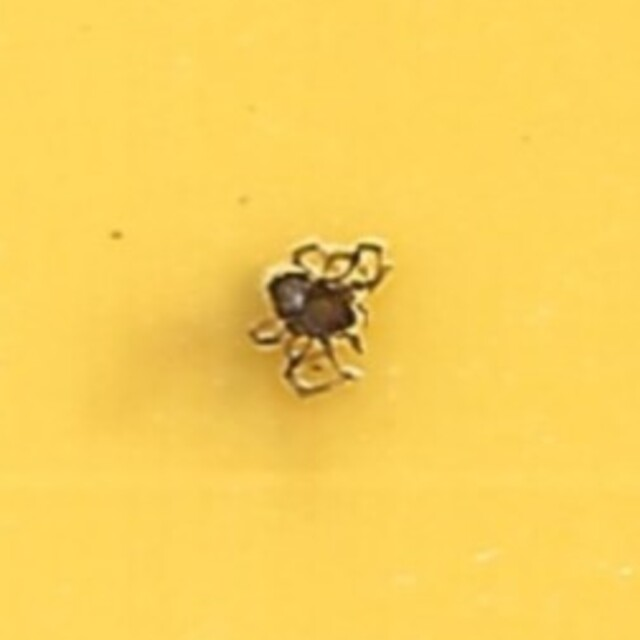Araneae: (254, 240, 386, 400)
